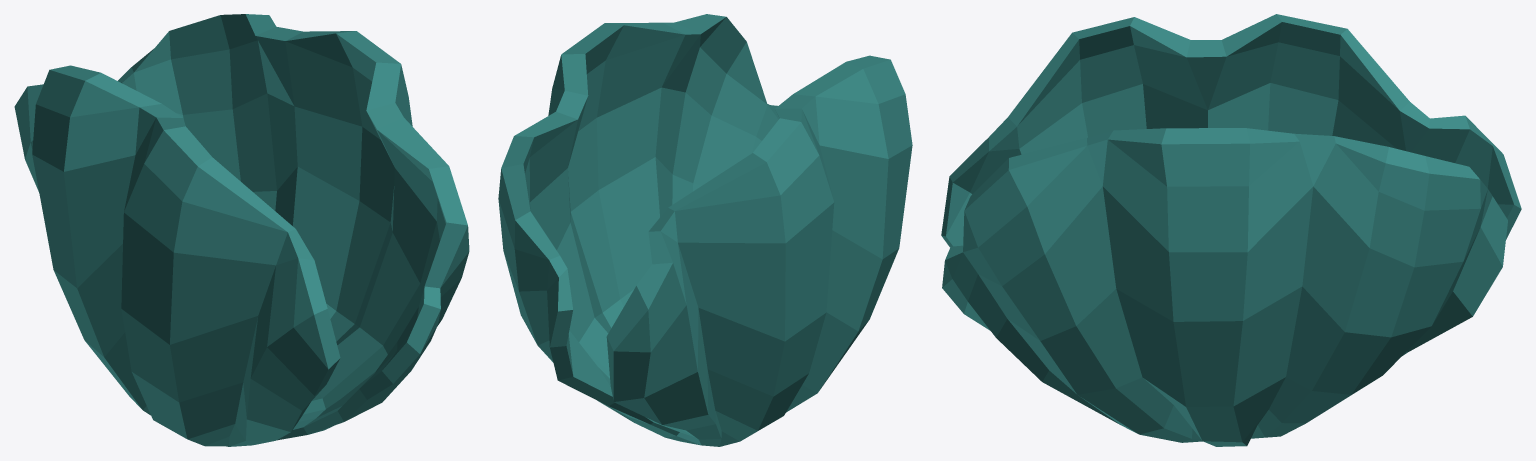
The model's file is SM_Sea_Shell_Giant_Open_A.fbx.
3 views of the same model, side by side, from view 1: azimuth 30°, elevation 25°; view 2: azimuth 150°, elevation 25°; view 3: azimuth 270°, elevation 25° (orthographic). The views are drawn at different scales.
Parts seen in each view (by area): view 1: sea-shell-giant-open-a; view 2: sea-shell-giant-open-a; view 3: sea-shell-giant-open-a.
Boxes of the visible parts, <box> form: sea-shell-giant-open-a: <box>14,14,469,446</box>; sea-shell-giant-open-a: <box>498,14,912,446</box>; sea-shell-giant-open-a: <box>941,14,1521,446</box>.
Bounding box in the file's own units: 0.4576 × 0.5267 × 0.7537.
